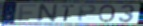3: (118, 4, 138, 23)
F: (18, 4, 38, 22)
N: (36, 3, 60, 23)
O: (98, 3, 117, 23)
P: (77, 4, 99, 23)
T: (61, 4, 76, 22)
